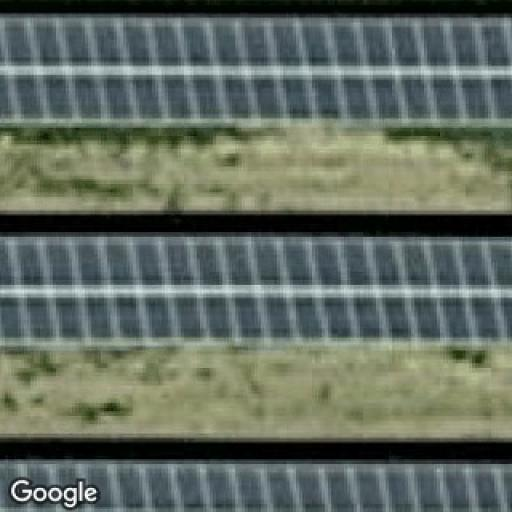solar-panel: (0, 234, 512, 348), (0, 16, 512, 130), (0, 461, 512, 512)
